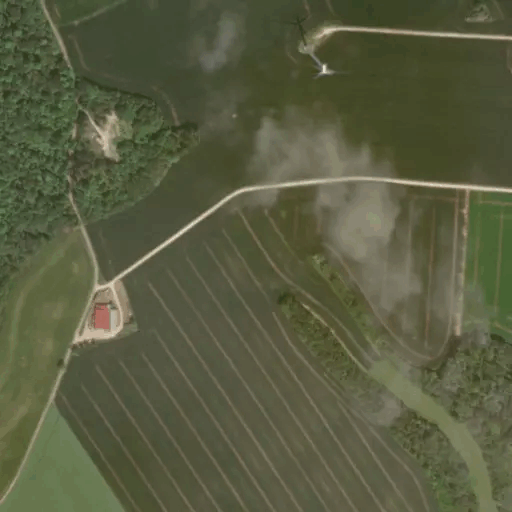wt: (291, 10, 349, 85)
